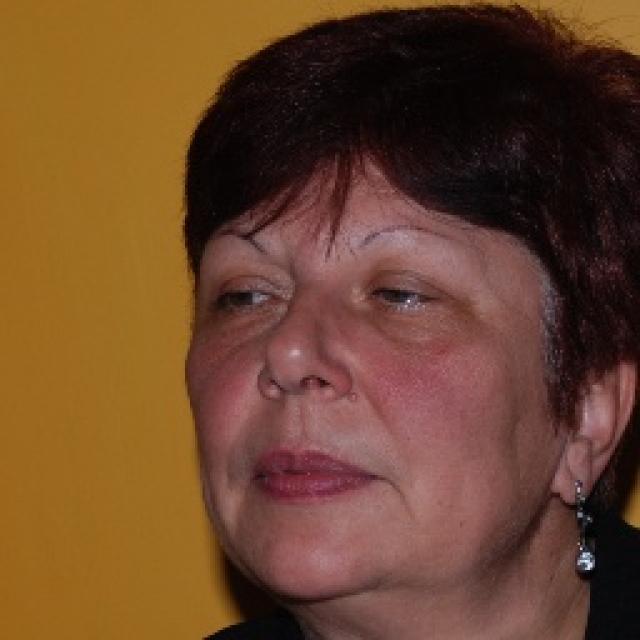earlobe: (554, 465, 597, 508)
eye: (365, 277, 443, 315), (212, 282, 283, 312)
nose: (260, 381, 353, 441)
wholeear: (554, 352, 640, 508)
